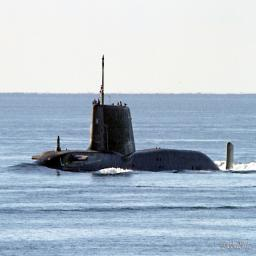submarine: (30, 55, 235, 171)
